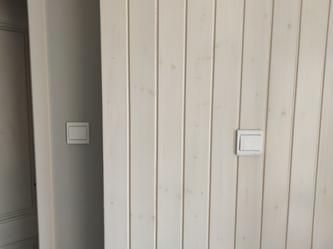switch: (239, 132, 263, 152), (67, 124, 89, 143)
